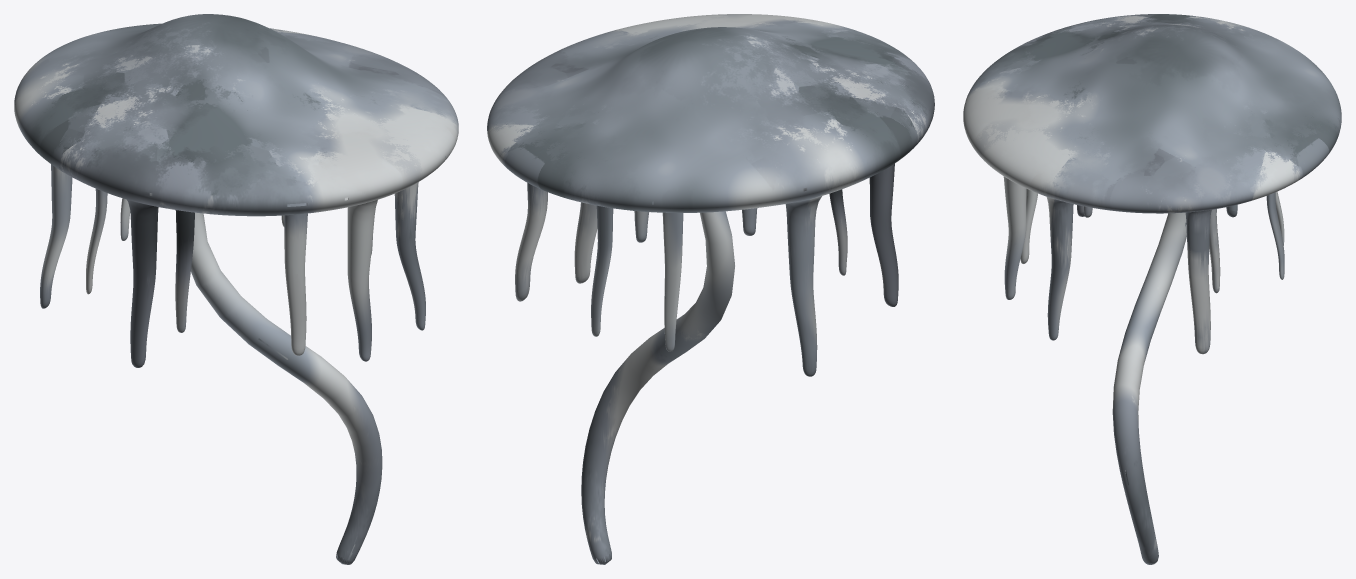
The model's file is blue_grib.fbx.
The picture shows the model from 3 angles, left to right: view 1: azimuth 30°, elevation 25°; view 2: azimuth 150°, elevation 25°; view 3: azimuth 270°, elevation 25°; orthographic projection. The views are drawn at different scales.
Visible parts, largest first — view 1: Cylinder.003; view 2: Cylinder.003; view 3: Cylinder.003.
Boxes of the visible parts, x1=… form: Cylinder.003: x1=14, y1=14, x2=458, y2=564; Cylinder.003: x1=487, y1=14, x2=934, y2=564; Cylinder.003: x1=963, y1=14, x2=1341, y2=564.
Size of the model in its own units: 822 by 1137 by 823.
